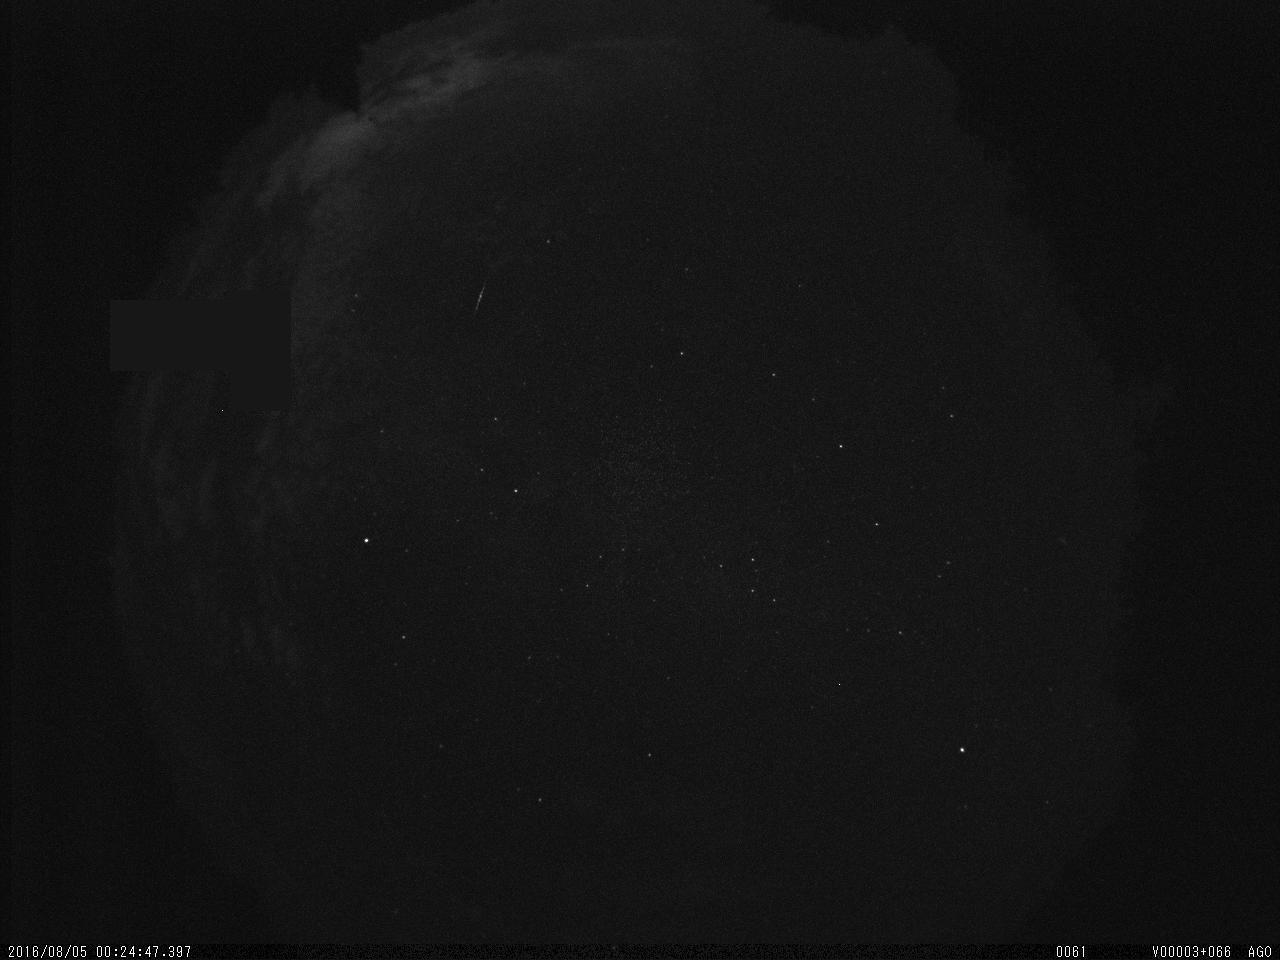meteor: (464, 268, 501, 326)
